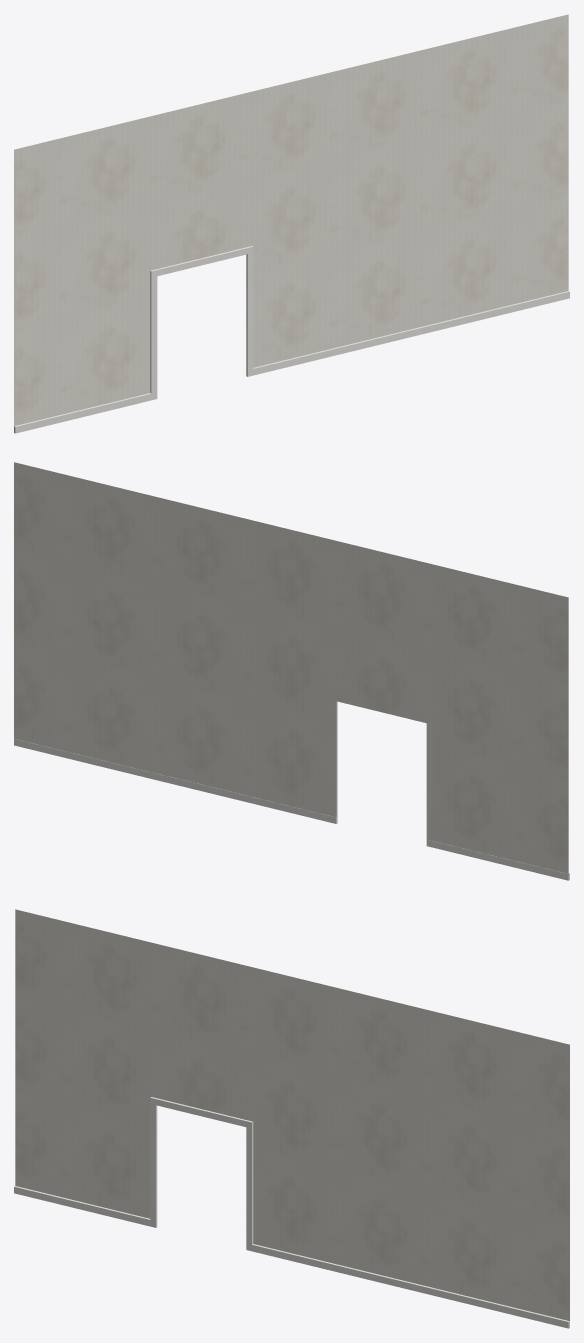
The picture shows the model from 3 angles, top to bottom: view 1: azimuth 30°, elevation 25°; view 2: azimuth 150°, elevation 25°; view 3: azimuth 330°, elevation 25°; orthographic projection.
Parts seen in each view (by area): view 1: jx_wm_12_2d4118e1; view 2: jx_wm_12_2d4118e1; view 3: jx_wm_12_2d4118e1.
Boxes of the visible parts, x1,y1,x2,y2 form: jx_wm_12_2d4118e1: (14,14,569,433); jx_wm_12_2d4118e1: (14,462,569,880); jx_wm_12_2d4118e1: (14,909,569,1328).
Bounding box in the file's own units: 12.3 × 6 × 0.05.
Materials: 2 (2 with a texture image).
